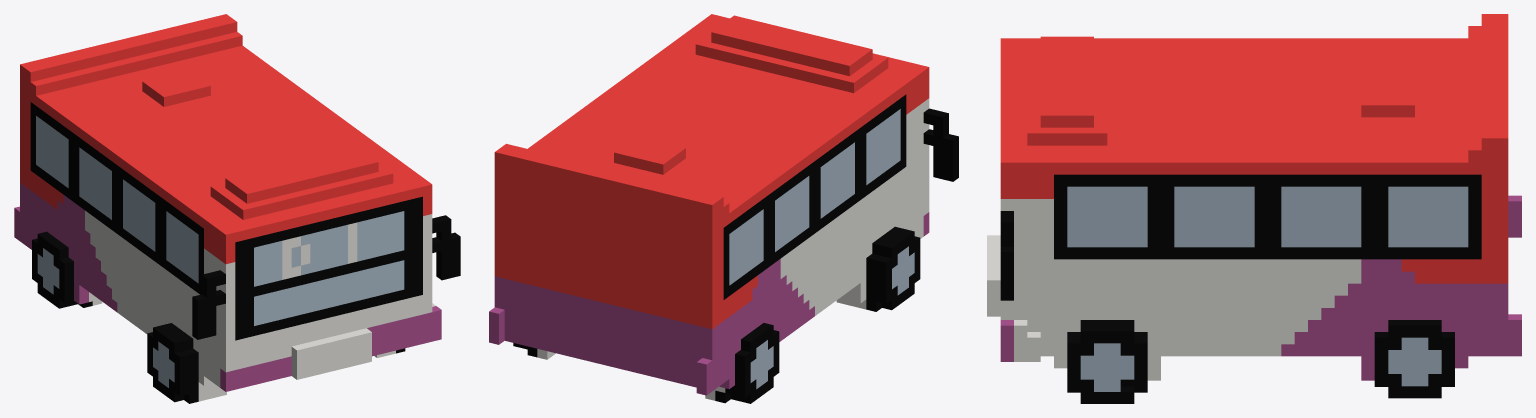
The model's file is bus2-0.obj.
3 renders of one model, left to right at view 1: azimuth 30°, elevation 25°; view 2: azimuth 150°, elevation 25°; view 3: azimuth 270°, elevation 25°, orthographic. The views are drawn at different scales.
Size of the model in its own units: 2.8 by 2.1 by 4.
1 material, 1 textured.
